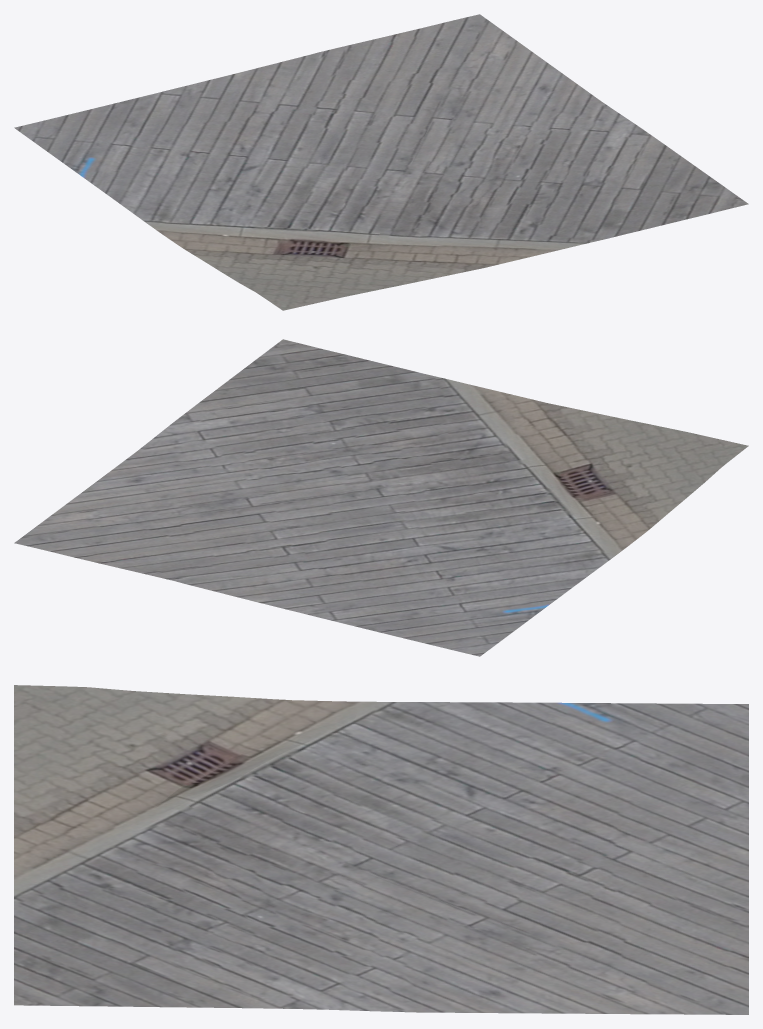
The picture shows the model from 3 angles, top to bottom: view 1: azimuth 30°, elevation 25°; view 2: azimuth 150°, elevation 25°; view 3: azimuth 270°, elevation 25°; orthographic projection. The views are drawn at different scales.
Bounding box in the file's own units: 4.18 × 0.1215 × 4.18.
2 materials, 2 textured.
